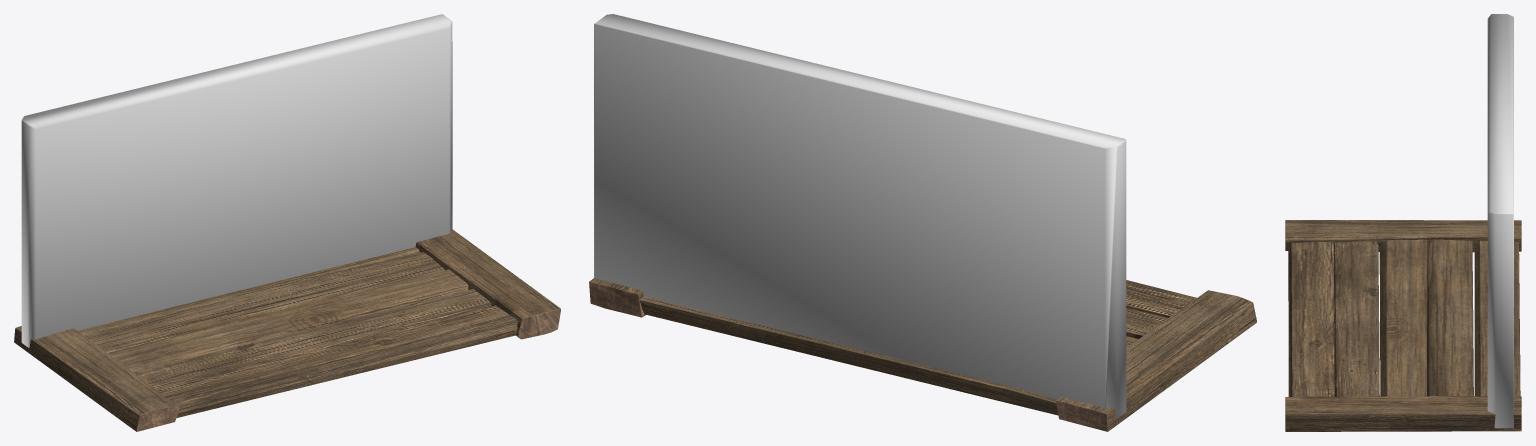
File: SM_Roof_LowPiece_A.fbx
3 views of the same model, side by side, from view 1: azimuth 30°, elevation 25°; view 2: azimuth 150°, elevation 25°; view 3: azimuth 270°, elevation 25° (orthographic). The views are drawn at different scales.
Parts seen in each view (by area): view 1: SM_Roof_LowPiece_A_ConvexHulls, SM_Roof_LowPiece_A; view 2: SM_Roof_LowPiece_A_ConvexHulls, SM_Roof_LowPiece_A; view 3: SM_Roof_LowPiece_A, SM_Roof_LowPiece_A_ConvexHulls.
Part boxes in pixels (x1,y1,x2,y2): SM_Roof_LowPiece_A_ConvexHulls: (21,14,452,347); SM_Roof_LowPiece_A: (14,229,560,431); SM_Roof_LowPiece_A_ConvexHulls: (594,14,1126,418); SM_Roof_LowPiece_A: (589,278,1256,431); SM_Roof_LowPiece_A: (1285,220,1521,431); SM_Roof_LowPiece_A_ConvexHulls: (1487,14,1513,428).
Bounding box in the file's own units: 3 × 1.57 × 1.5.
